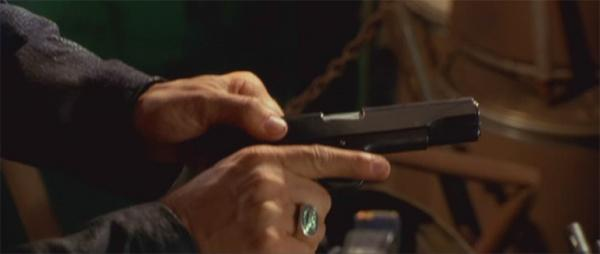Gun: (185, 95, 483, 185)
